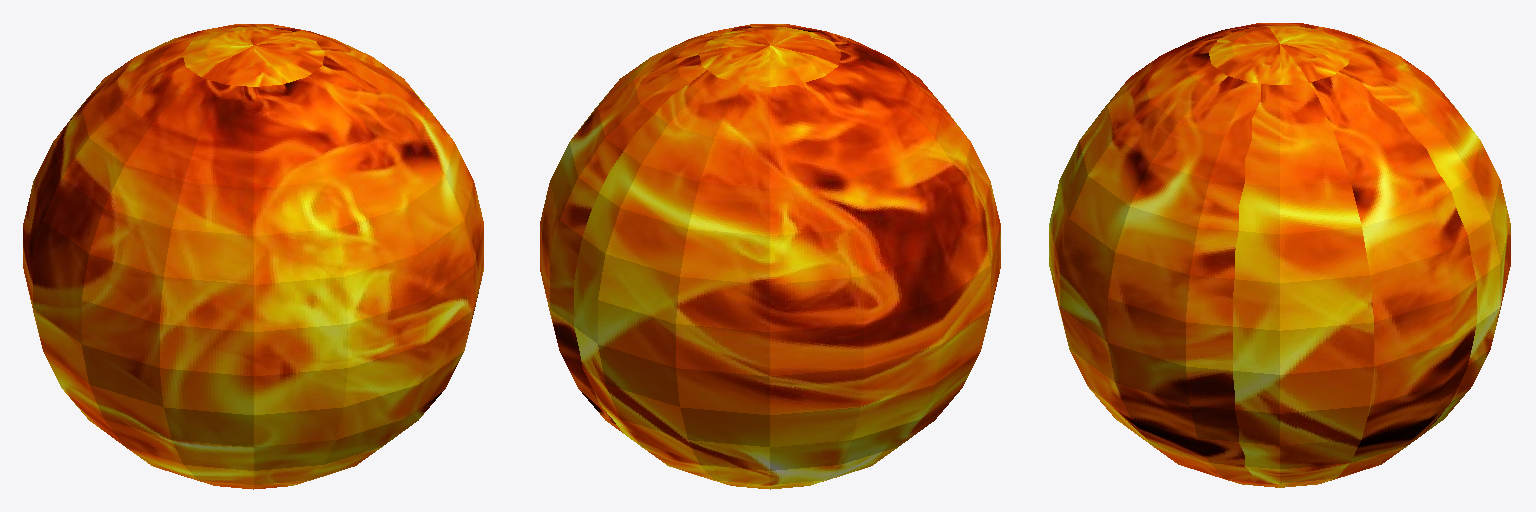
3 renders of one model, left to right at view 1: azimuth 30°, elevation 25°; view 2: azimuth 150°, elevation 25°; view 3: azimuth 270°, elevation 25°, orthographic.
Parts seen in each view (by area): view 1: Mesa_style.001; view 2: Mesa_style.001; view 3: Mesa_style.001.
Boxes of the visible parts, <box> form: Mesa_style.001: <box>23,24,483,489</box>; Mesa_style.001: <box>540,24,1000,489</box>; Mesa_style.001: <box>1049,23,1510,487</box>.
Bounding box in the file's own units: 1.98 × 2.02 × 2.
1 materials, 1 textured.